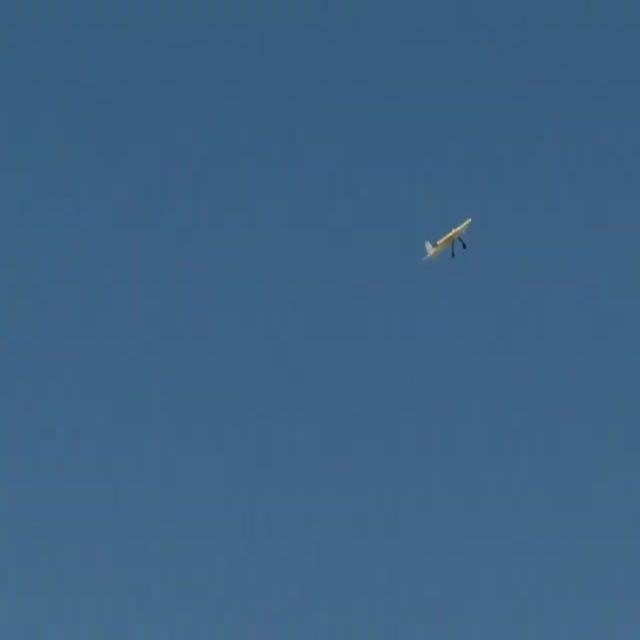iha: (416, 211, 476, 269)
